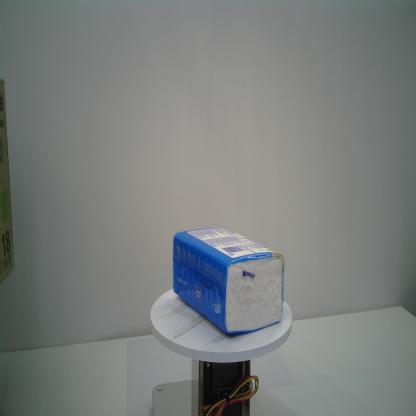Tissue: (172, 225, 286, 336)
